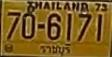0: (22, 12, 34, 38)
1: (66, 13, 71, 40), (96, 14, 101, 40)
6: (47, 12, 60, 39)
7: (77, 13, 91, 40), (7, 11, 20, 39)
RBR: (37, 43, 74, 57)
